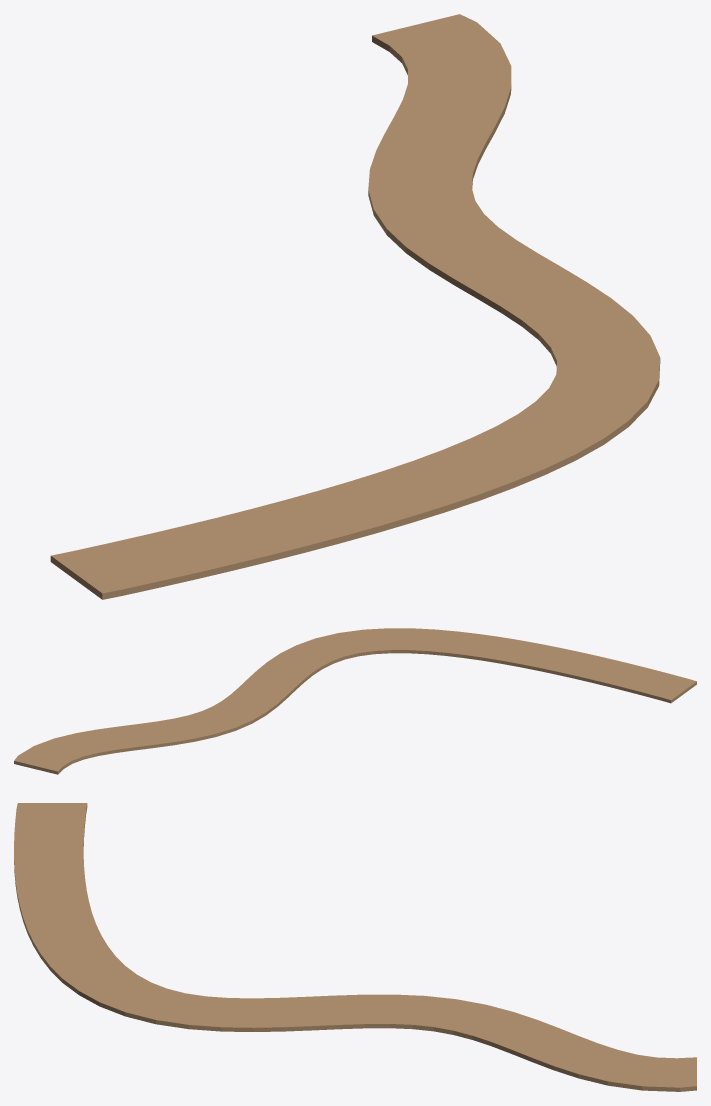
Rendered from Road.fbx.
The picture shows the model from 3 angles, top to bottom: view 1: azimuth 30°, elevation 25°; view 2: azimuth 150°, elevation 25°; view 3: azimuth 270°, elevation 25°; orthographic projection. The views are drawn at different scales.
Parts seen in each view (by area): view 1: Road; view 2: Road; view 3: Road.
Part boxes in pixels (<box>): Road: <box>50,14,660,599</box>; Road: <box>14,628,696,774</box>; Road: <box>14,803,696,1091</box>.
Bounding box in the file's own units: 1932 × 13.65 × 1959.
